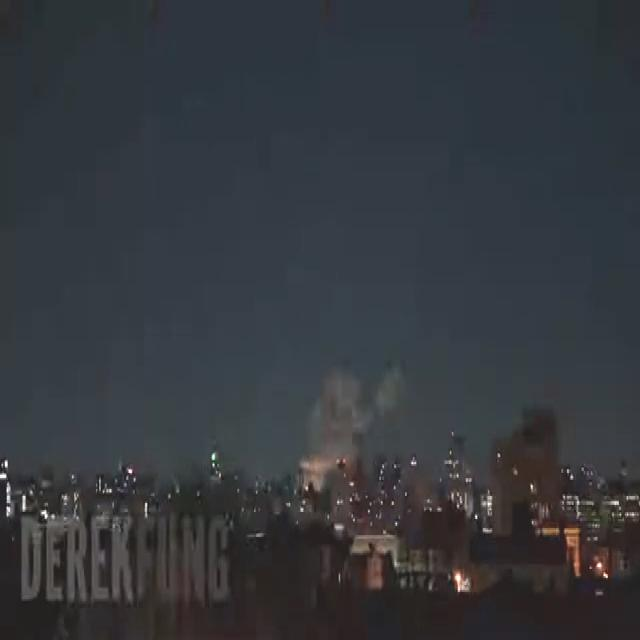smoke: (299, 366, 404, 489)
